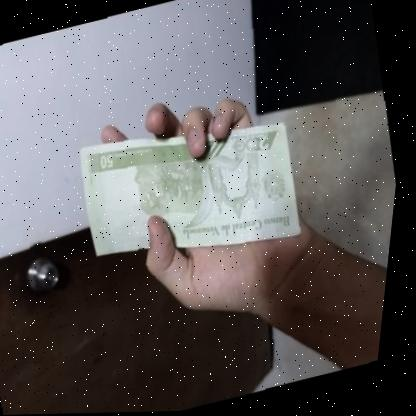fifty-back-vef: (70, 98, 318, 286)
